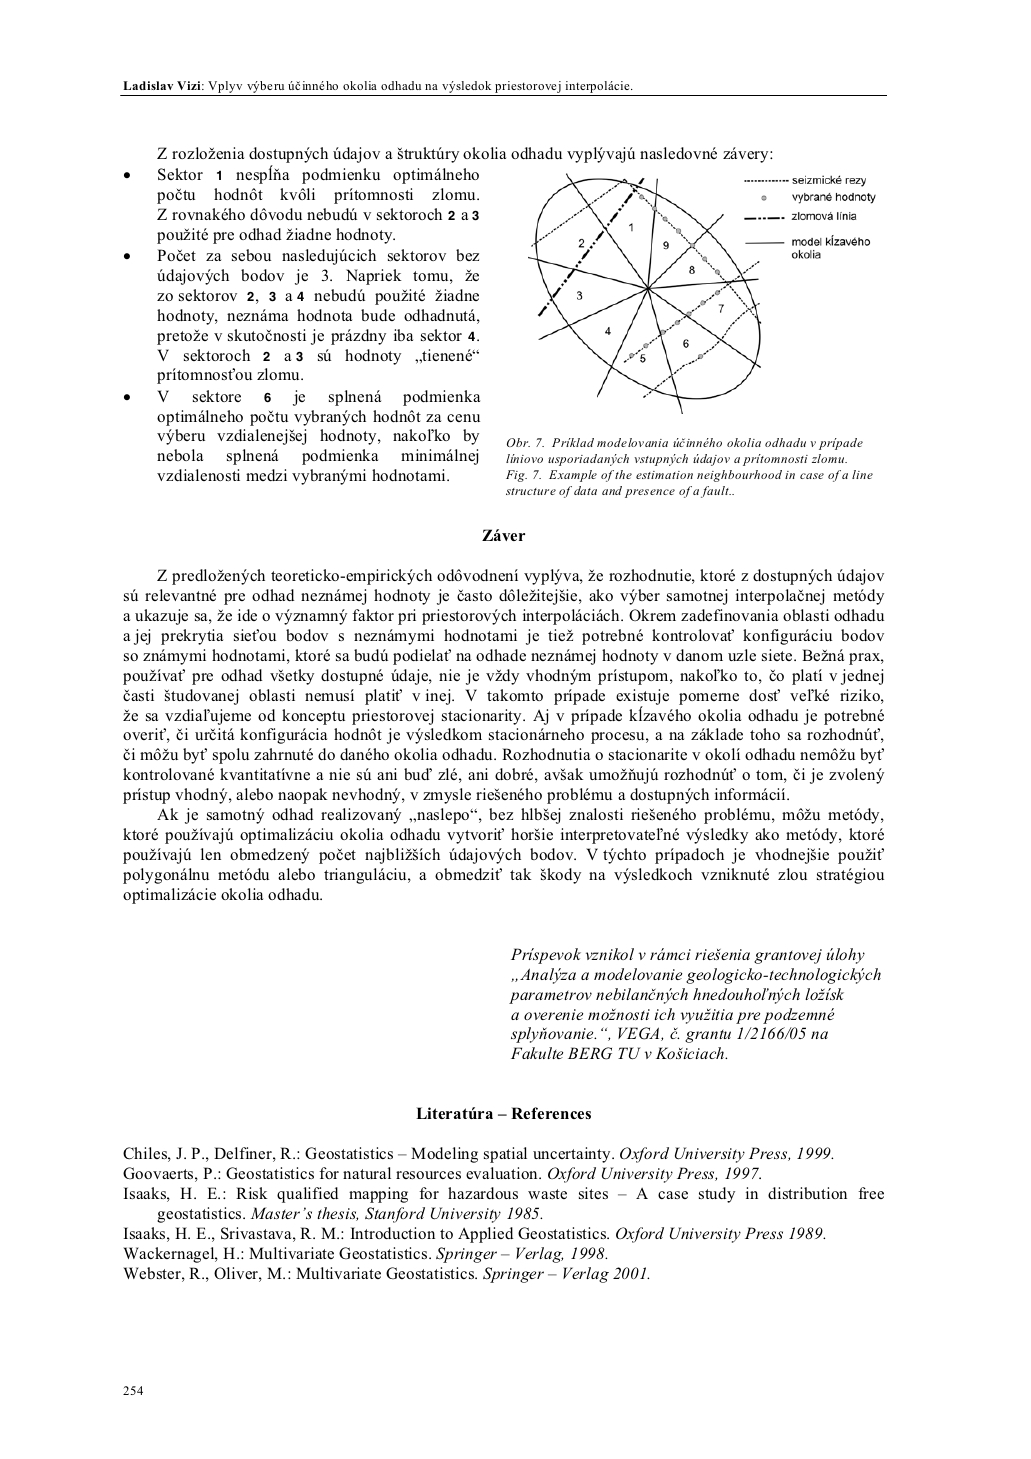figure: (528, 173, 875, 413)
